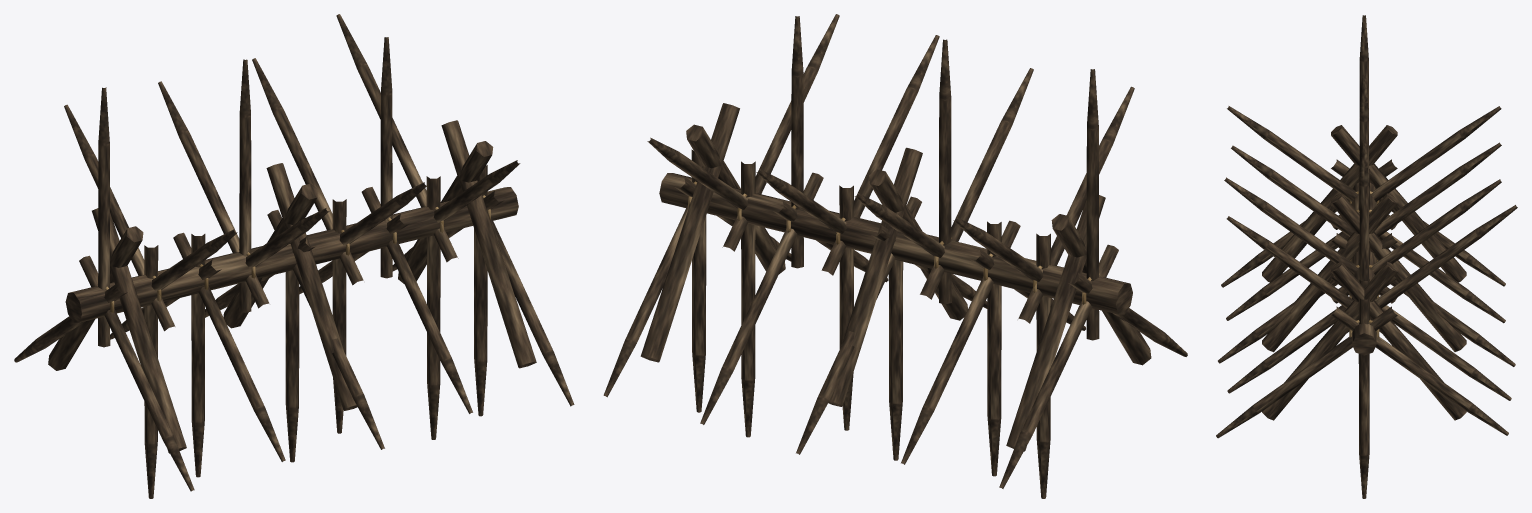
The model's file is barricata_cheval_de_frise.gltf.
The picture shows the model from 3 angles, left to right: view 1: azimuth 30°, elevation 25°; view 2: azimuth 150°, elevation 25°; view 3: azimuth 270°, elevation 25°; orthographic projection. The views are drawn at different scales.
Visible parts, largest first — view 1: barricata_cheval_de_frise; view 2: barricata_cheval_de_frise; view 3: barricata_cheval_de_frise.
Boxes of the visible parts, x1,y1,x2,y2 form: barricata_cheval_de_frise: [14, 14, 574, 498]; barricata_cheval_de_frise: [603, 14, 1187, 498]; barricata_cheval_de_frise: [1216, 15, 1517, 498].
Bounding box in the file's own units: 2.6 × 2.46 × 1.94.
2 materials, 2 textured.
